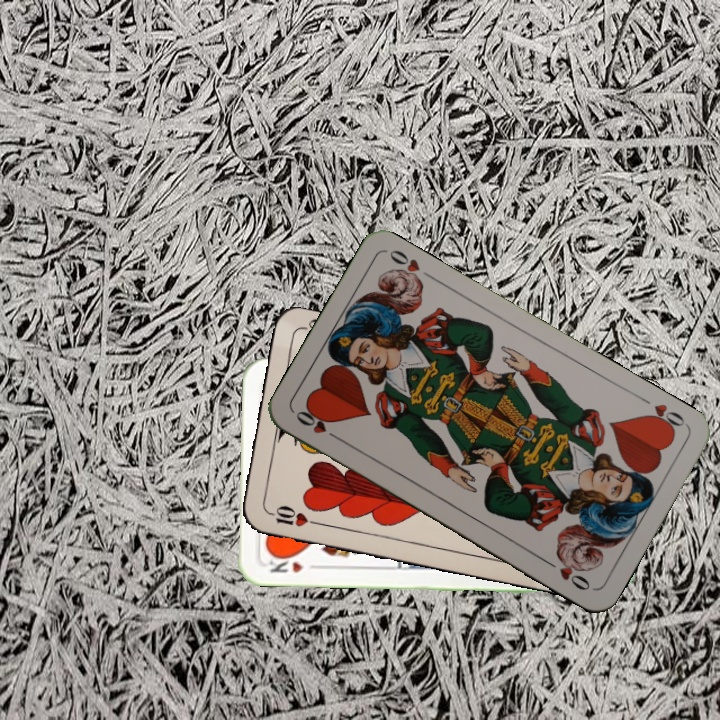H10: (262, 501, 320, 529)
HK: (262, 551, 305, 576)
HO: (291, 406, 345, 444), (638, 399, 690, 436)
